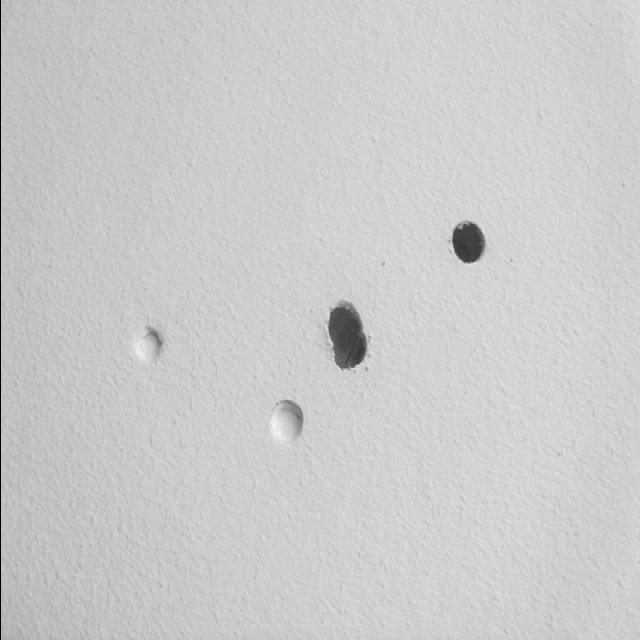pin holes: (296, 280, 383, 386), (431, 198, 500, 286)
